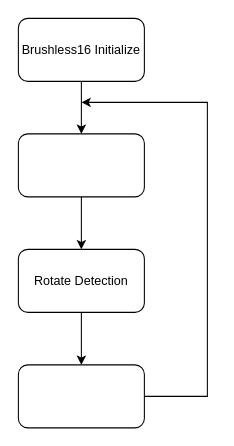
The diagram is 234 pixels wide and 446 high, and some of its shapes have lost their labels. The shapes that lost their labels are listed below. From the top down, each one's centre as x and y in pixels, then its label:
At (80,165): "Lock Detection".
At (80,396): "Reverse state".
